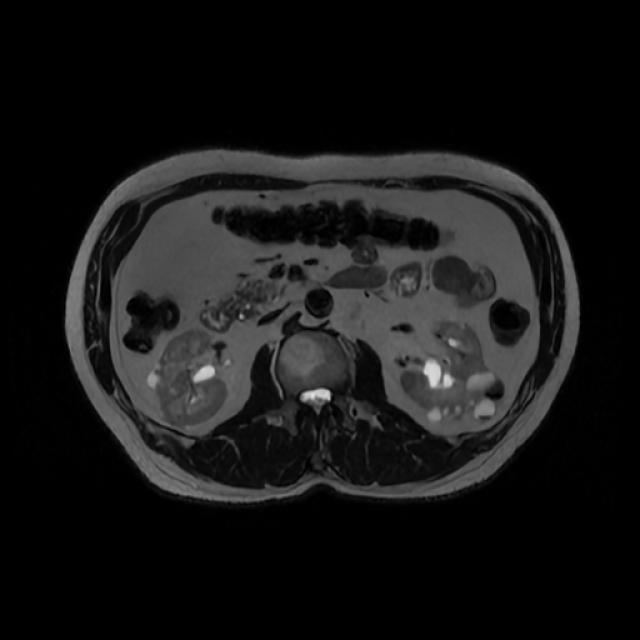sag: (149, 331, 227, 428)
sol: (402, 319, 507, 423)
